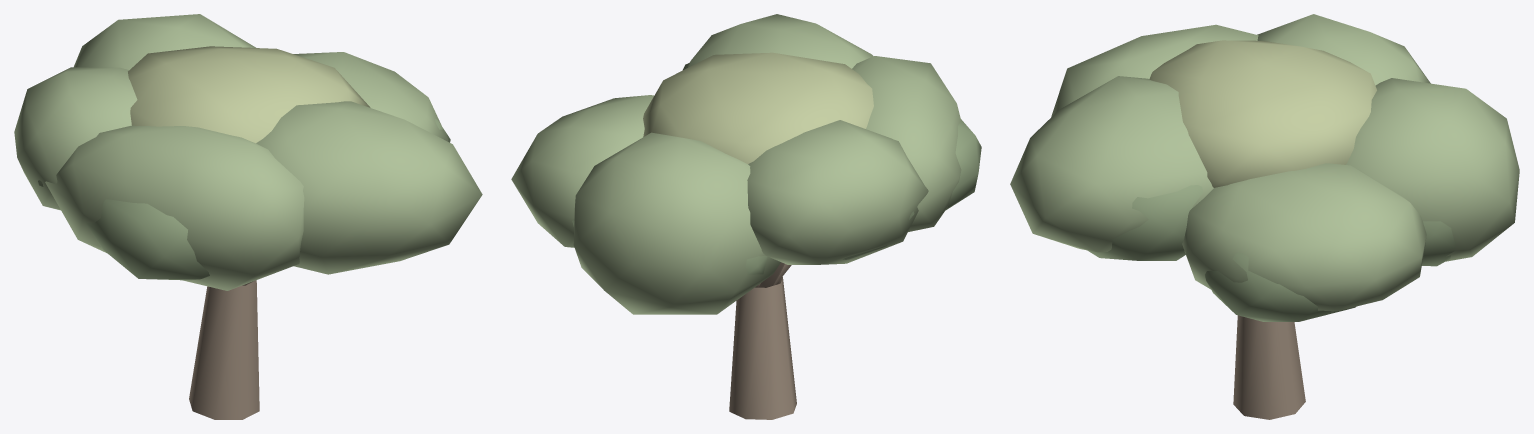
The model's file is tree_ombu_4.glb.
3 renders of one model, left to right at view 1: azimuth 30°, elevation 25°; view 2: azimuth 150°, elevation 25°; view 3: azimuth 270°, elevation 25°, orthographic. The views are drawn at different scales.
Visible parts, largest first — view 1: tree_ombu_4.glb; view 2: tree_ombu_4.glb; view 3: tree_ombu_4.glb.
Boxes of the visible parts, bbox=[...] form: tree_ombu_4.glb: bbox=[14, 14, 482, 419]; tree_ombu_4.glb: bbox=[511, 14, 981, 419]; tree_ombu_4.glb: bbox=[1010, 14, 1519, 419].
Bounding box in the file's own units: 6.03 × 5.02 × 6.74.
